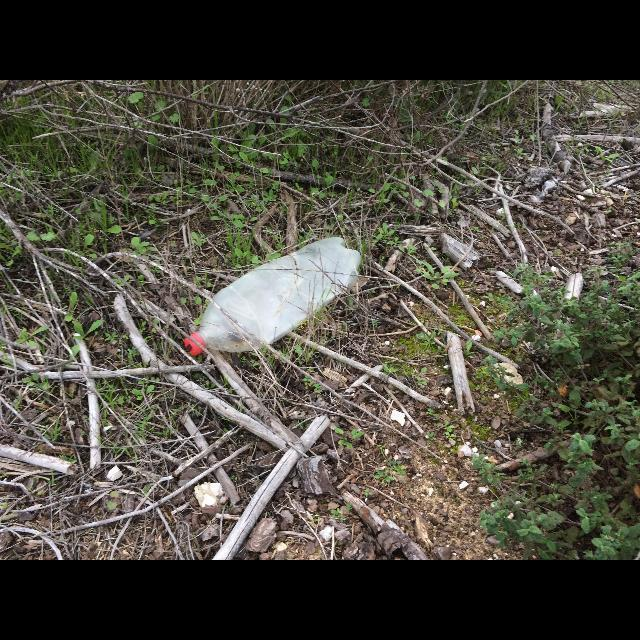Plastic: (185, 237, 363, 356), (184, 336, 203, 356)
